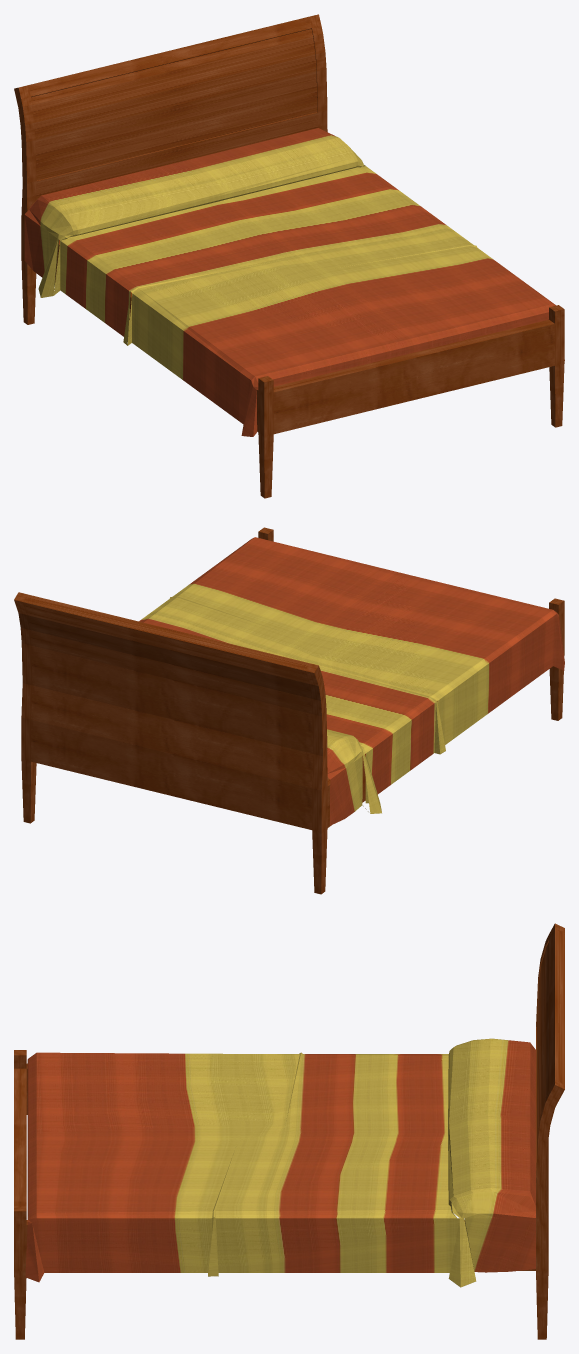
File: bed1.obj
The picture shows the model from 3 angles, top to bottom: view 1: azimuth 30°, elevation 25°; view 2: azimuth 150°, elevation 25°; view 3: azimuth 270°, elevation 25°; orthographic projection. The views are drawn at different scales.
Parts seen in each view (by area): view 1: Object.1, Object.2; view 2: Object.2, Object.1; view 3: Object.1, Object.2.
Boxes of the visible parts, x1,y1,x2,y2 form: Object.1: (24, 128, 564, 436); Object.2: (14, 14, 564, 498); Object.2: (14, 527, 564, 894); Object.1: (139, 537, 564, 825); Object.1: (25, 1038, 535, 1287); Object.2: (14, 923, 564, 1339).
Bounding box in the file's own units: 19 × 12.35 × 24.12.
2 materials, 2 textured.
